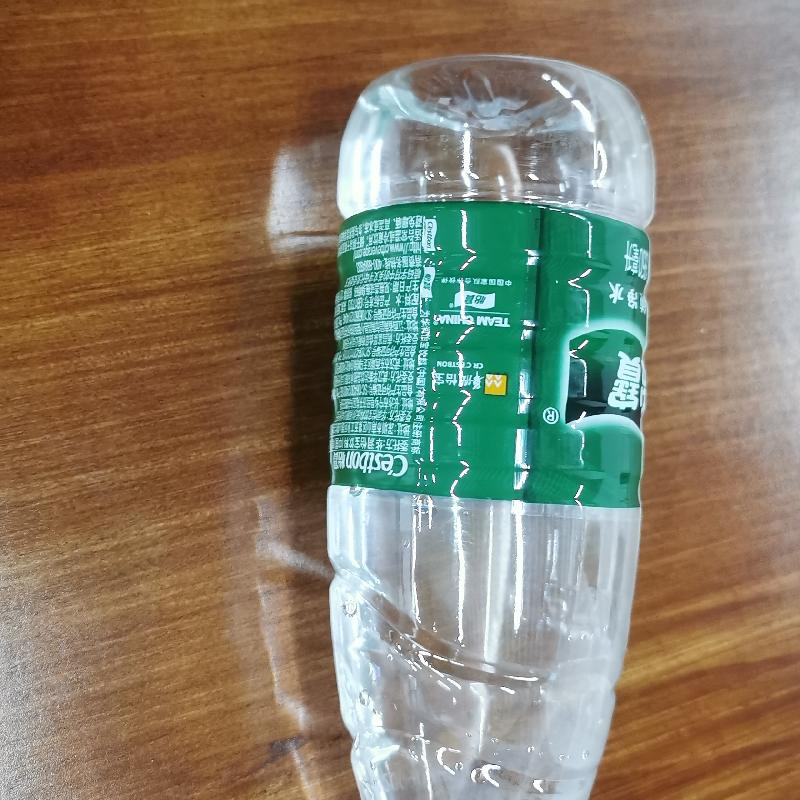bottles: (311, 52, 665, 799)
